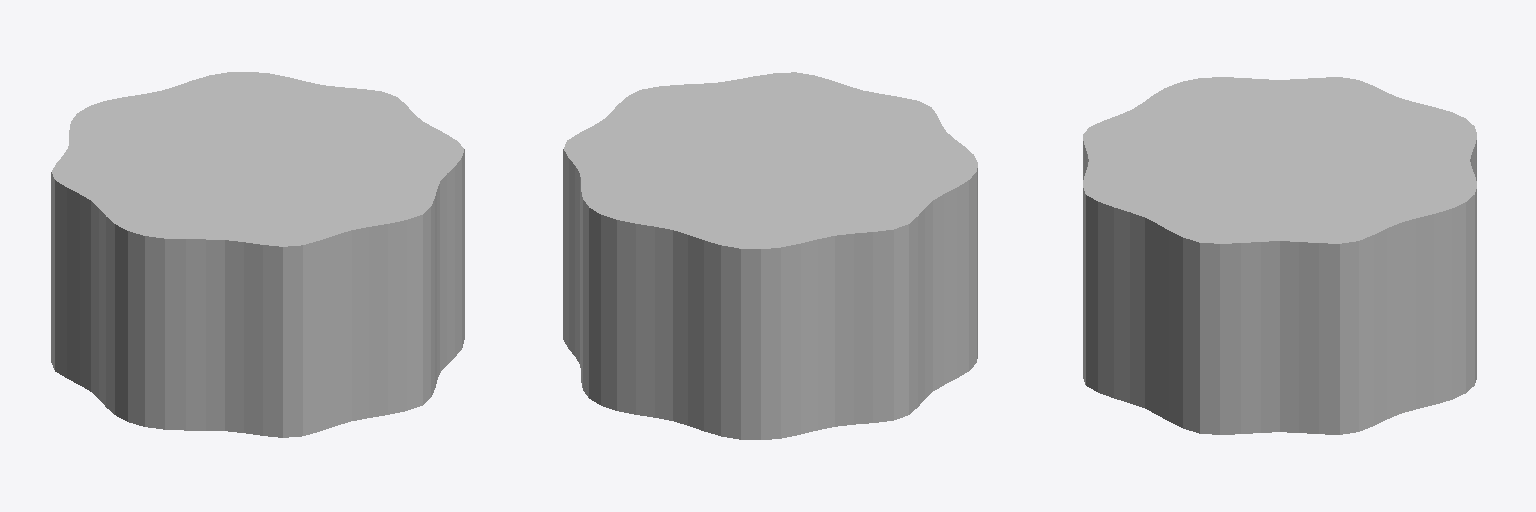
File: glaze1.obj
3 renders of one model, left to right at view 1: azimuth 30°, elevation 25°; view 2: azimuth 150°, elevation 25°; view 3: azimuth 270°, elevation 25°, orthographic.
Parts seen in each view (by area): view 1: Circle; view 2: Circle; view 3: Circle.
Boxes of the visible parts, <box> form: Circle: <box>51,72,464,437</box>; Circle: <box>563,72,977,439</box>; Circle: <box>1083,77,1476,434</box>.
Bounding box in the file's own units: 1.87 × 1 × 1.87.